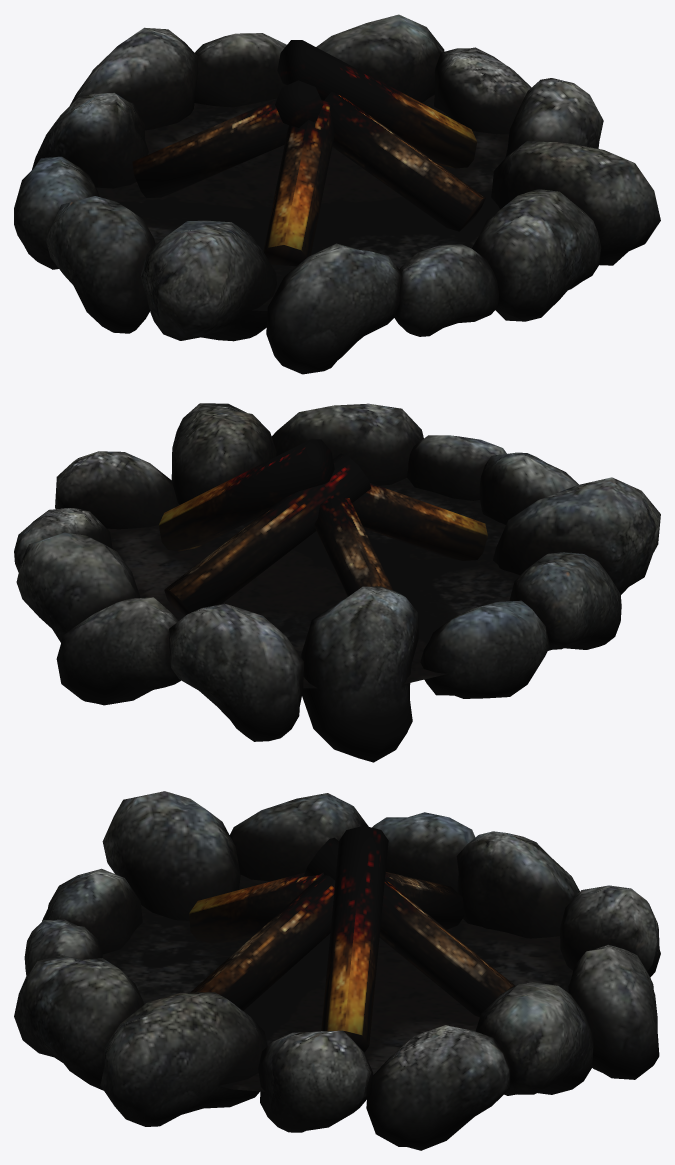
The model's file is Bonfire.glb.
The picture shows the model from 3 angles, top to bottom: view 1: azimuth 30°, elevation 25°; view 2: azimuth 150°, elevation 25°; view 3: azimuth 270°, elevation 25°; orthographic projection. The views are drawn at different scales.
Parts seen in each view (by area): view 1: Bonfire.001; view 2: Bonfire.001; view 3: Bonfire.001.
Part boxes in pixels (x1=…): Bonfire.001: x1=14, y1=14, x2=660, y2=374; Bonfire.001: x1=14, y1=403, x2=660, y2=762; Bonfire.001: x1=14, y1=791, x2=660, y2=1150.
Size of the model in its own units: 0.9219 by 0.3695 by 0.9318.
1 material, 1 textured.
